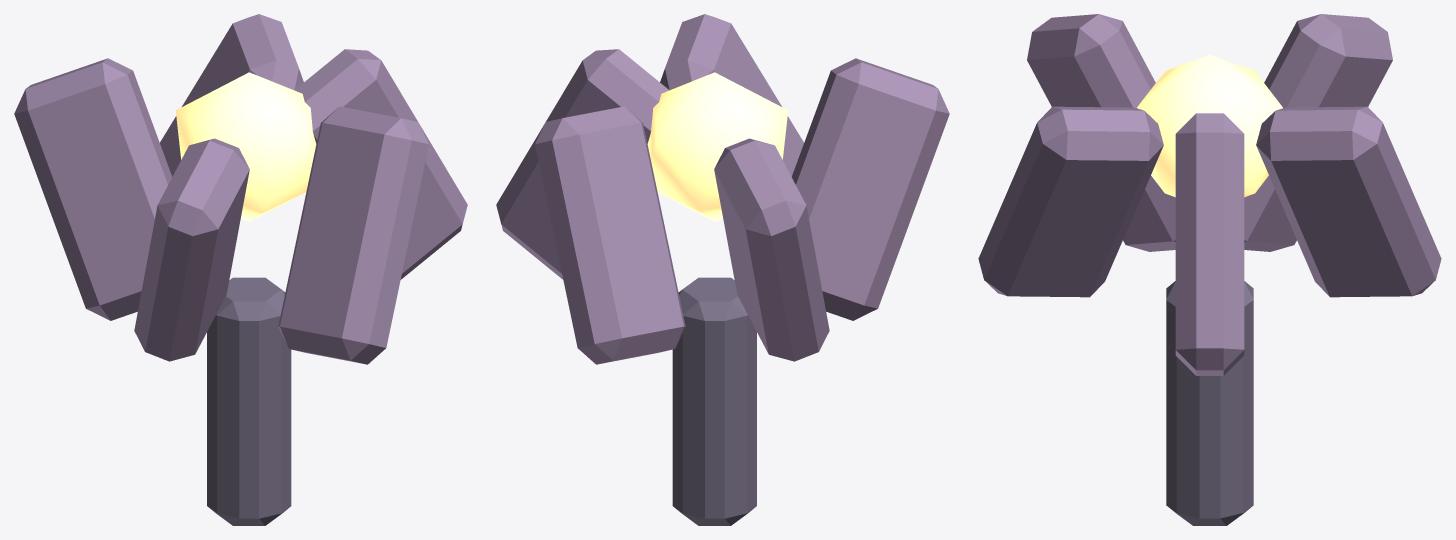
File: ember_bloom.glb
3 renders of one model, left to right at view 1: azimuth 30°, elevation 25°; view 2: azimuth 150°, elevation 25°; view 3: azimuth 270°, elevation 25°, orthographic. The views are drawn at different scales.
Visible parts, largest first — view 1: ember_bloom_Petals.001, ember_bloom_Body, ember_bloom_Center.001; view 2: ember_bloom_Petals.001, ember_bloom_Body, ember_bloom_Center.001; view 3: ember_bloom_Petals.001, ember_bloom_Body, ember_bloom_Center.001.
Boxes of the visible parts, x1,y1,x2,y2 form: ember_bloom_Petals.001: [14, 14, 467, 364]; ember_bloom_Body: [207, 277, 291, 525]; ember_bloom_Center.001: [175, 72, 316, 221]; ember_bloom_Petals.001: [496, 14, 949, 364]; ember_bloom_Body: [672, 277, 756, 525]; ember_bloom_Center.001: [647, 72, 788, 221]; ember_bloom_Petals.001: [978, 14, 1441, 375]; ember_bloom_Body: [1166, 281, 1253, 525]; ember_bloom_Center.001: [1137, 54, 1282, 197].
Bounding box in the file's own units: 1.03 × 1.18 × 1.08.
